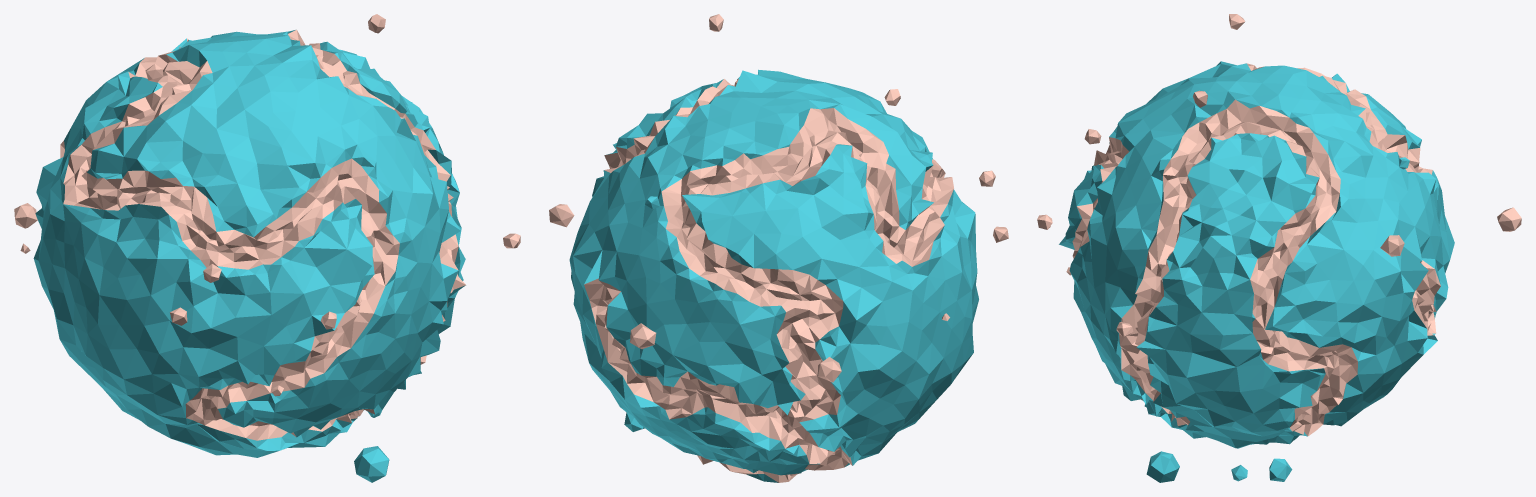
File: Planet_25.glb
3 renders of one model, left to right at view 1: azimuth 30°, elevation 25°; view 2: azimuth 150°, elevation 25°; view 3: azimuth 270°, elevation 25°, orthographic. The views are drawn at different scales.
Visible parts, largest first — view 1: Planet_25; view 2: Planet_25; view 3: Planet_25.
Boxes of the visible parts, <box> form: Planet_25: <box>14,14,520,482</box>; Planet_25: <box>549,14,1008,482</box>; Planet_25: <box>1037,14,1521,482</box>.
Size of the model in its own units: 22.01 by 23.29 by 25.45.
1 material, 1 textured.
